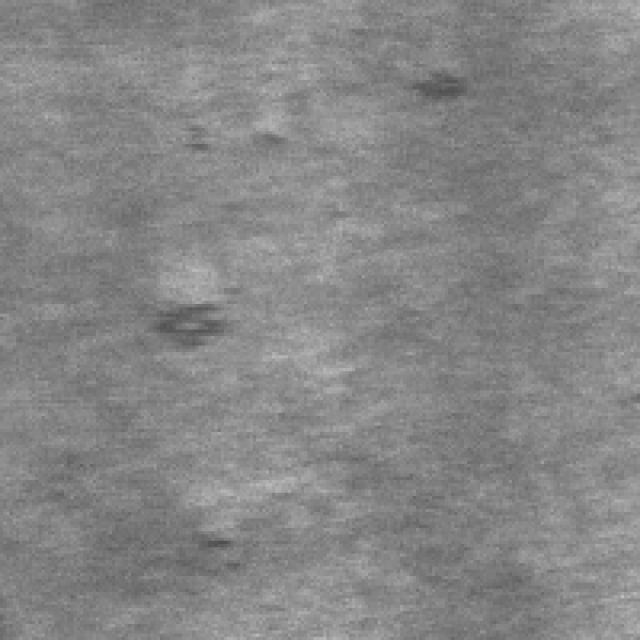rolled-in_scale: (163, 61, 474, 147), (134, 266, 256, 355)
